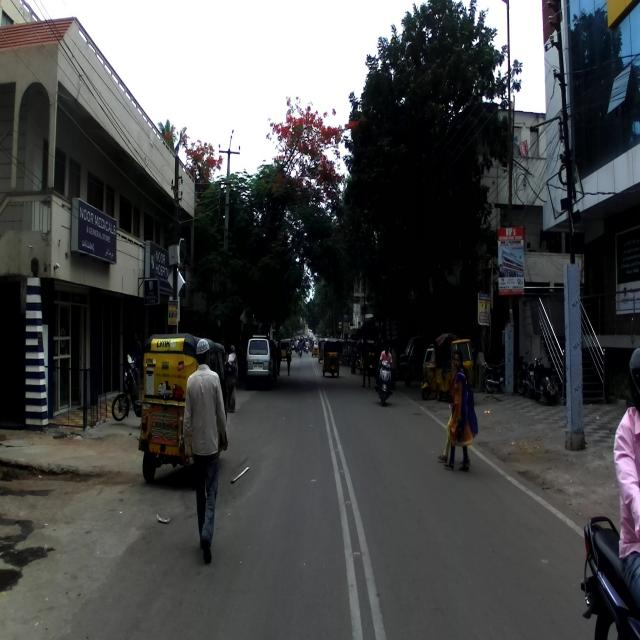Car_Maruti-Suzuki: (245, 330, 273, 384)
autorickshaw: (137, 332, 228, 485)
motorcycle_TVS: (111, 349, 146, 424)
scooter: (378, 354, 392, 406)
